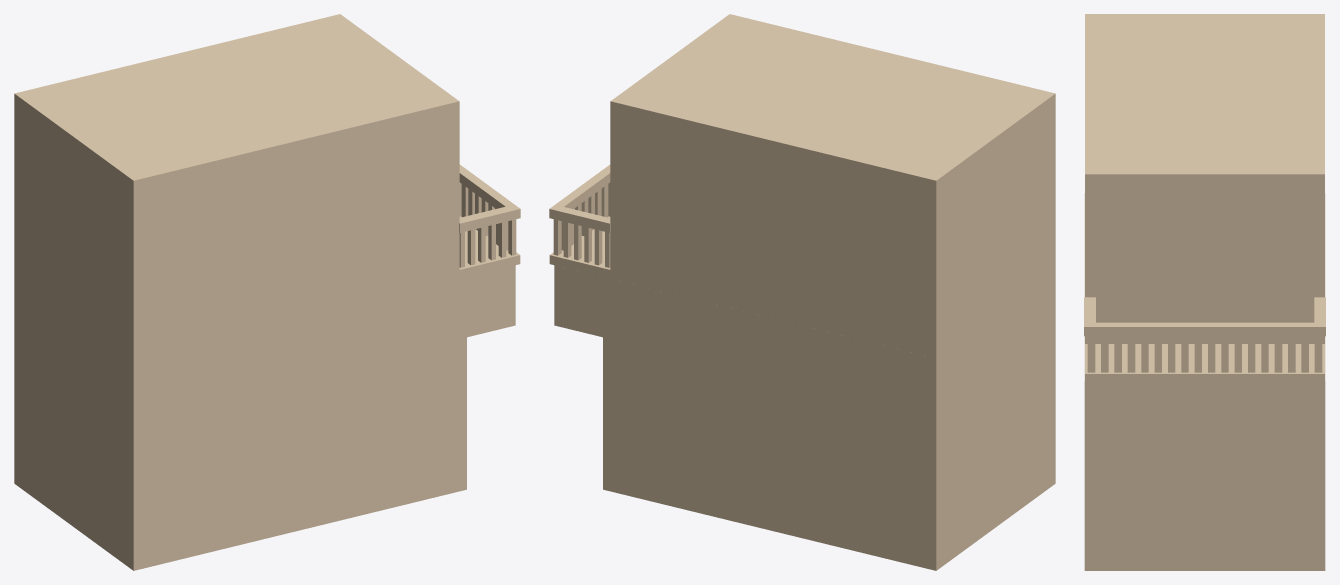
File: quan_sua_xe_may.fbx
3 renders of one model, left to right at view 1: azimuth 30°, elevation 25°; view 2: azimuth 150°, elevation 25°; view 3: azimuth 270°, elevation 25°, orthographic.
Parts seen in each view (by area): view 1: quan_sua_xe_may; view 2: quan_sua_xe_may; view 3: quan_sua_xe_may.
Part boxes in pixels (left/top/right/bottom): quan_sua_xe_may: left=14, top=14, right=520, bottom=570; quan_sua_xe_may: left=549, top=14, right=1055, bottom=570; quan_sua_xe_may: left=1084, top=14, right=1325, bottom=570.
Bounding box in the file's own units: 1547 × 1491 × 832.
1 material, 1 textured.
